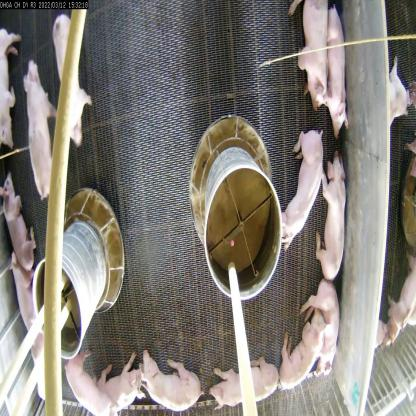Pig: (47, 1, 95, 148), (309, 152, 351, 303), (0, 167, 41, 318), (276, 113, 325, 238), (310, 0, 355, 129), (18, 59, 57, 205), (290, 0, 332, 118), (207, 357, 291, 415), (301, 269, 344, 381), (136, 350, 200, 416), (59, 348, 111, 415), (84, 361, 146, 416), (278, 311, 323, 383)
